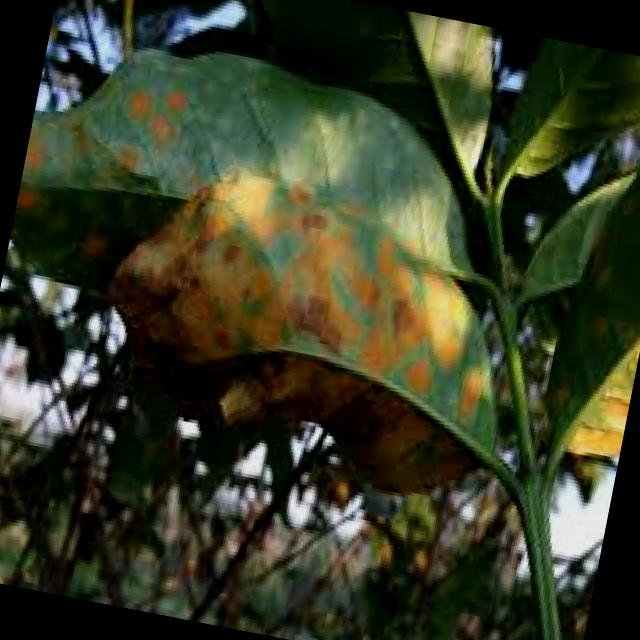leaf_rust: (115, 175, 494, 491)
